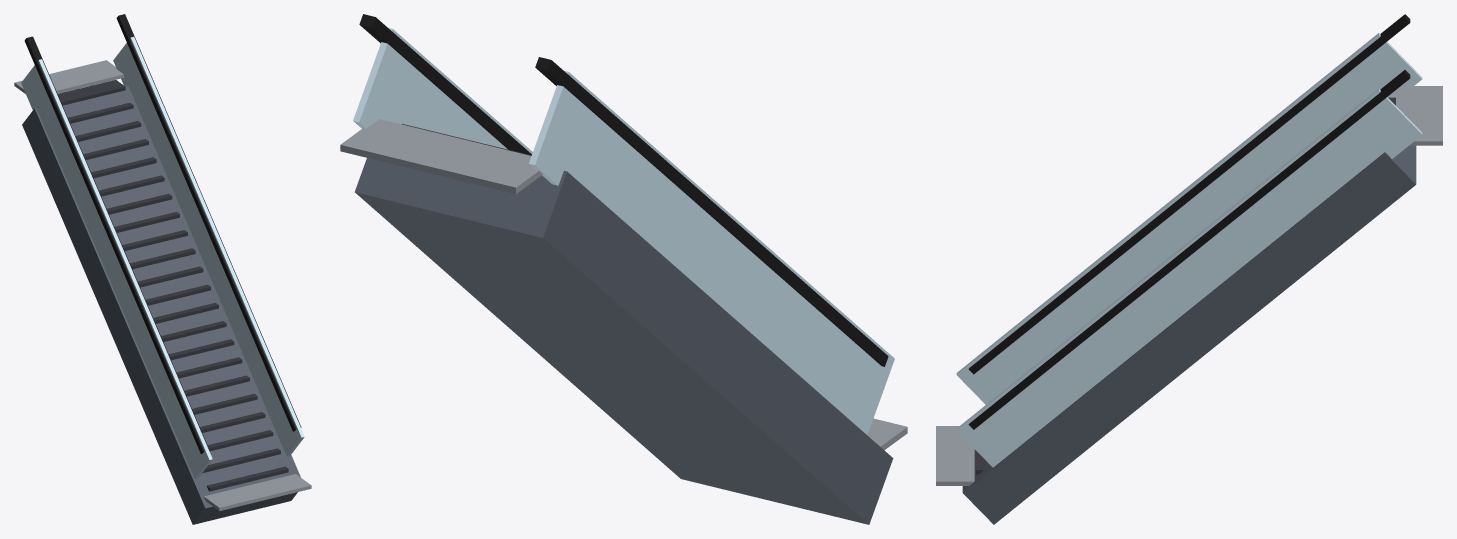
The model's file is escalator.glb.
3 renders of one model, left to right at view 1: azimuth 30°, elevation 25°; view 2: azimuth 150°, elevation 25°; view 3: azimuth 270°, elevation 25°, orthographic. The views are drawn at different scales.
Parts seen in each view (by area): view 1: part-truss, part-clear-balustrade, part-escalator-step, part-handrail-black, part-steel; view 2: part-truss, part-clear-balustrade, part-handrail-black, part-steel; view 3: part-clear-balustrade, part-truss, part-handrail-black, part-steel.
Part boxes in pixels (x1,y1,x2,y2): part-truss: [22, 85, 300, 524]; part-clear-balustrade: [21, 36, 304, 479]; part-escalator-step: [57, 80, 288, 491]; part-handrail-black: [24, 14, 301, 453]; part-steel: [14, 60, 311, 510]; part-truss: [355, 158, 893, 524]; part-clear-balustrade: [353, 28, 894, 434]; part-handrail-black: [359, 14, 888, 366]; part-steel: [340, 119, 907, 450]; part-clear-balustrade: [956, 33, 1422, 467]; part-truss: [962, 145, 1416, 524]; part-handrail-black: [968, 14, 1410, 429]; part-steel: [936, 86, 1442, 485].
Size of the model in its own units: 30 by 106 by 108.
